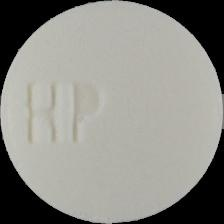51655-123: (0, 0, 224, 224)
